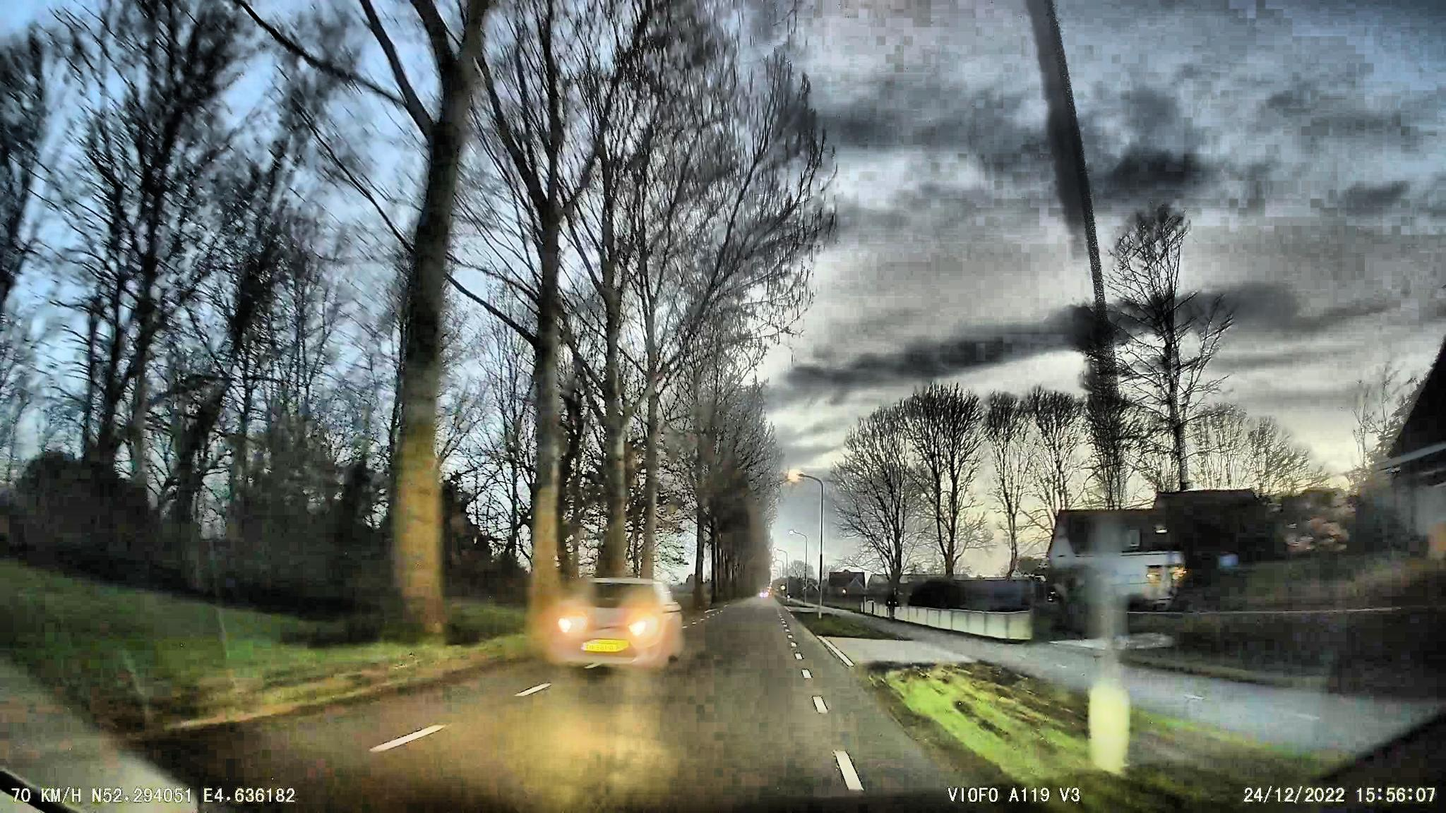Roads: (143, 598, 1003, 813)
